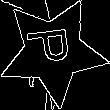P_E: (25, 30, 80, 73)
